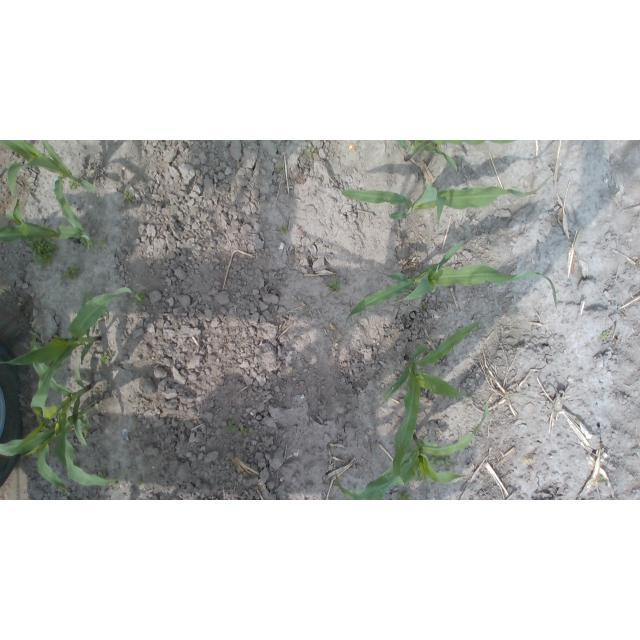Maize: (2, 326, 137, 494), (346, 238, 559, 326), (378, 316, 484, 477), (333, 398, 491, 498), (2, 286, 143, 397), (340, 171, 553, 234), (2, 174, 97, 250), (0, 141, 96, 204), (396, 141, 518, 173)
Weeds: (23, 239, 57, 270), (227, 422, 248, 437), (59, 267, 81, 281), (101, 353, 112, 366), (327, 281, 341, 291), (70, 180, 81, 189), (399, 493, 414, 499), (308, 148, 317, 157), (602, 331, 611, 340), (123, 190, 133, 198), (277, 164, 284, 172), (279, 226, 287, 233)
